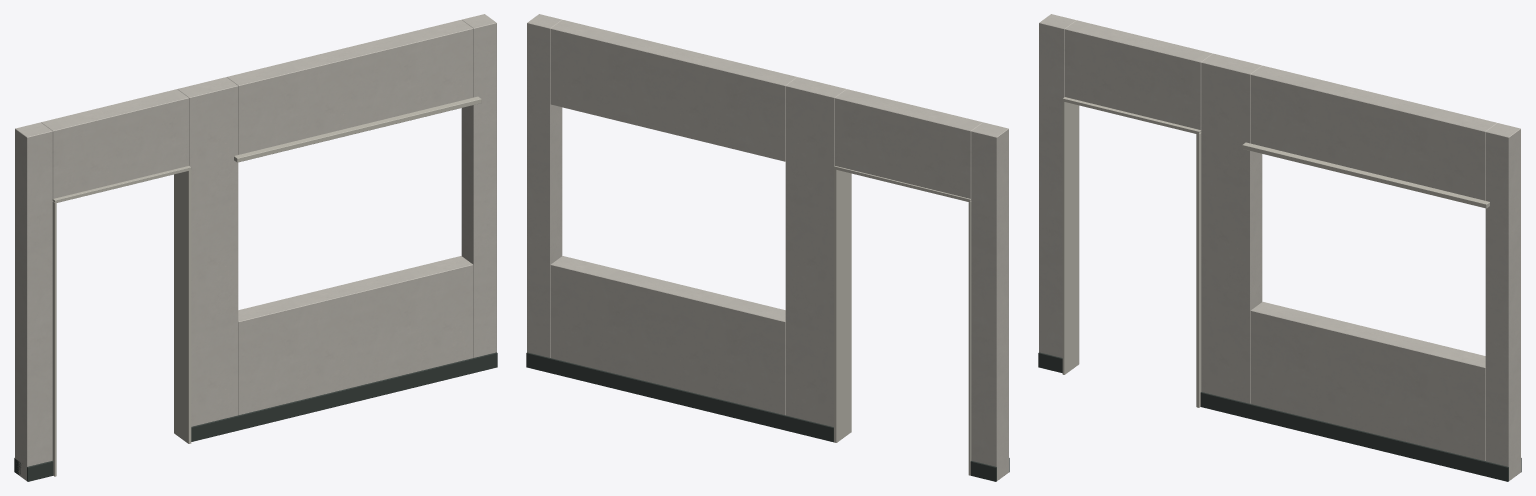
Rendered from room101_facade_option1.glb.
The picture shows the model from 3 angles, left to right: view 1: azimuth 30°, elevation 25°; view 2: azimuth 150°, elevation 25°; view 3: azimuth 330°, elevation 25°; orthographic projection.
Visible parts, largest first — view 1: R101_FACADE_00, R101_FACADE_01, R101_FACADE_04, R101_FACADE_06, R101_FACADE_03, R101_FACADE_05, R101_FACADE_02; view 2: R101_FACADE_00, R101_FACADE_01, R101_FACADE_04, R101_FACADE_03, R101_FACADE_05; view 3: R101_FACADE_00, R101_FACADE_01, R101_FACADE_03, R101_FACADE_06, R101_FACADE_04, R101_FACADE_05.
Boxes of the visible parts, <box> form: R101_FACADE_00: <box>15,14,496,480</box>; R101_FACADE_01: <box>191,352,497,441</box>; R101_FACADE_04: <box>174,170,191,443</box>; R101_FACADE_06: <box>234,96,481,162</box>; R101_FACADE_03: <box>52,201,56,476</box>; R101_FACADE_05: <box>52,166,191,202</box>; R101_FACADE_02: <box>14,458,53,481</box>; R101_FACADE_00: <box>527,14,1008,480</box>; R101_FACADE_01: <box>526,352,833,442</box>; R101_FACADE_04: <box>834,168,851,442</box>; R101_FACADE_03: <box>968,201,971,475</box>; R101_FACADE_05: <box>834,166,971,201</box>; R101_FACADE_00: <box>1039,14,1520,480</box>; R101_FACADE_01: <box>1200,392,1521,481</box>; R101_FACADE_03: <box>1062,101,1079,374</box>; R101_FACADE_06: <box>1242,142,1489,208</box>; R101_FACADE_04: <box>1196,132,1201,407</box>; R101_FACADE_05: <box>1062,97,1201,133</box>.
Size of the model in its own units: 4 by 2.8 by 0.24.
3 materials, 1 textured.
